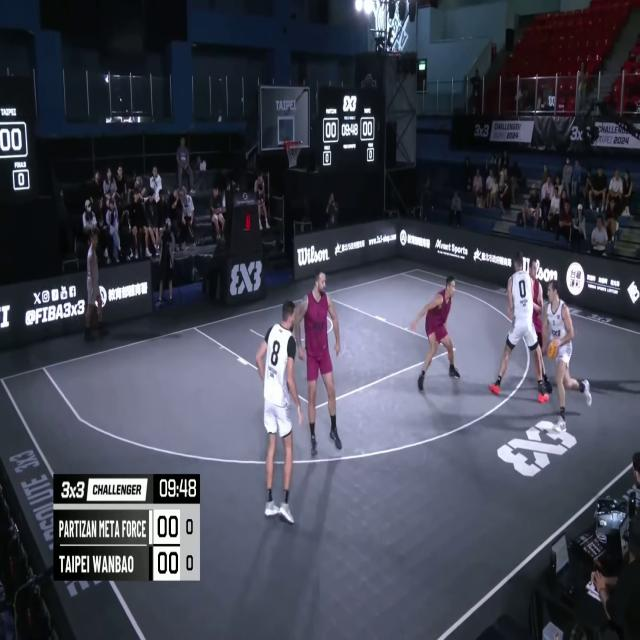ball: (547, 336, 559, 360)
hoop: (284, 137, 303, 168)
player: (257, 302, 302, 524), (490, 252, 549, 407), (296, 274, 341, 458), (543, 280, 592, 434), (504, 252, 555, 389), (413, 276, 459, 394)
